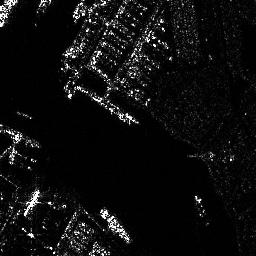ship: (99, 208, 131, 243), (1, 124, 40, 147), (192, 193, 209, 227)
